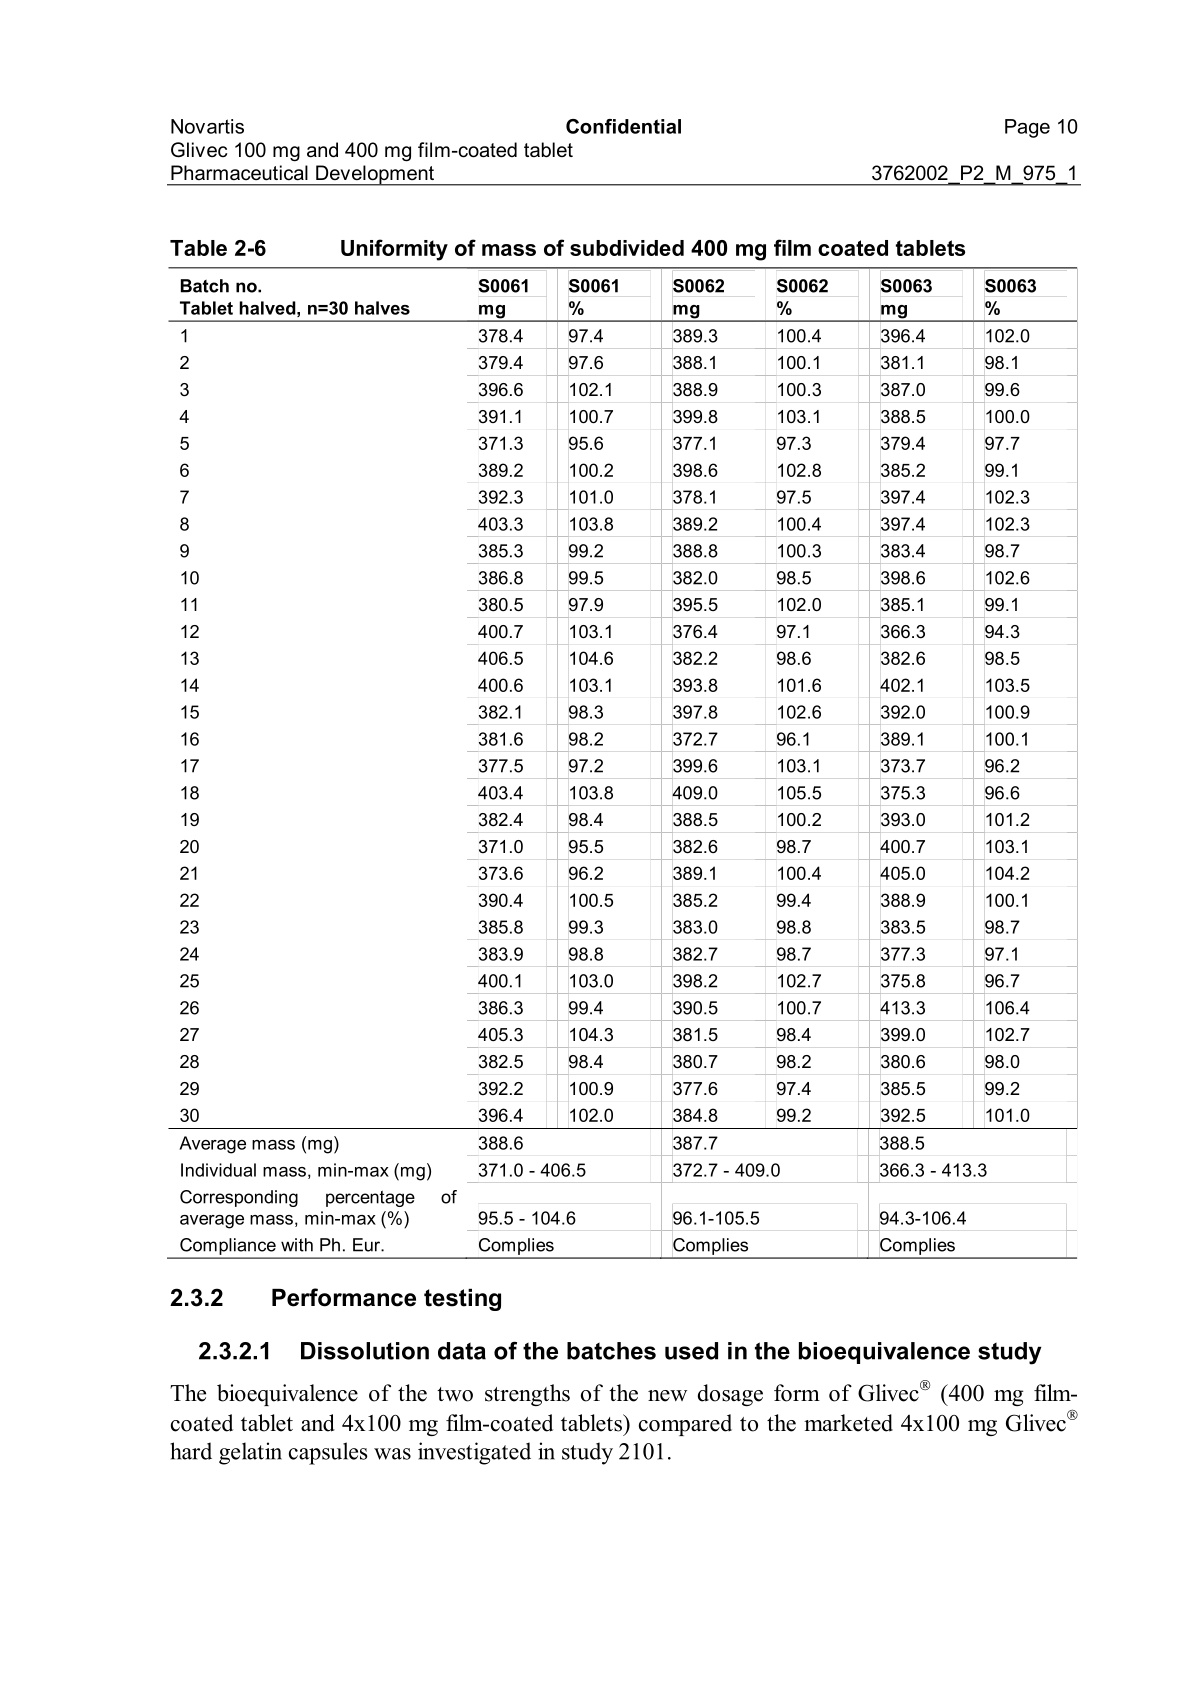partial_lined: (166, 265, 1081, 1260)
